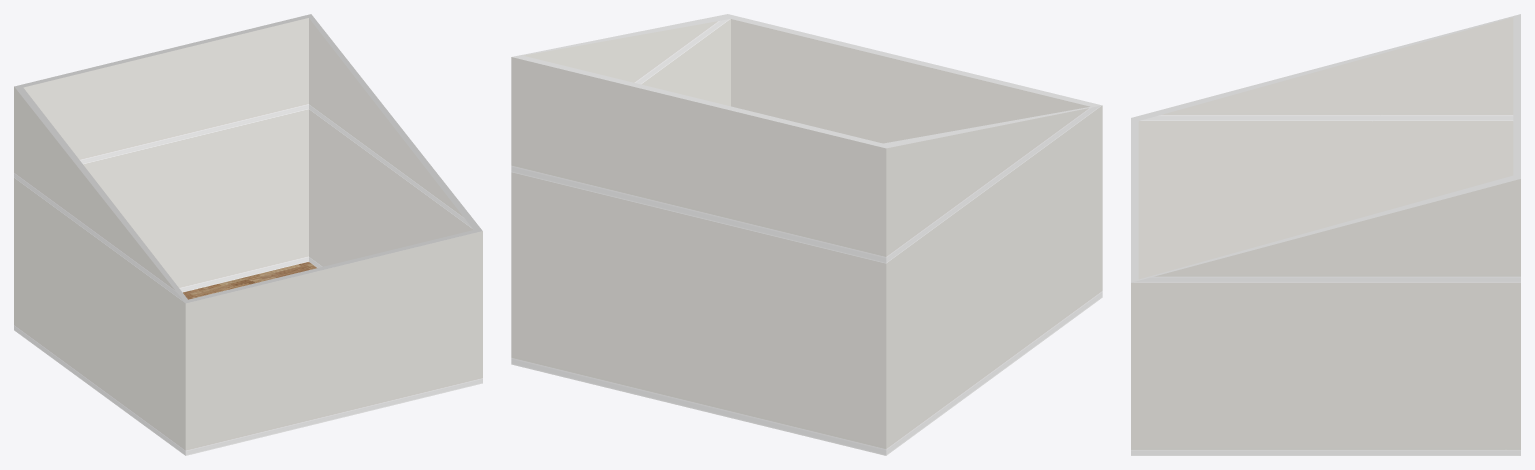
Rendered from design.gltf.
The picture shows the model from 3 angles, left to right: view 1: azimuth 30°, elevation 25°; view 2: azimuth 150°, elevation 25°; view 3: azimuth 270°, elevation 25°; orthographic projection. The views are drawn at different scales.
Parts seen in each view (by area): view 1: wall (×4), object 5, object 17, object 1, object 11, object 23; view 2: wall (×4), object 11, object 23, object 5, object 17; view 3: wall (×2), object 17, object 5, object 23, object 11.
Part boxes in pixels (x1,y1,x2,y2): wall (×4): [14, 18, 482, 455]; object 5: [14, 86, 187, 303]; object 17: [309, 14, 482, 230]; object 1: [183, 262, 316, 299]; object 11: [186, 230, 481, 303]; object 23: [14, 14, 310, 87]; wall (×4): [511, 19, 1102, 455]; object 11: [728, 14, 1101, 106]; object 23: [512, 55, 885, 148]; object 5: [883, 105, 1099, 148]; object 17: [512, 14, 730, 56]; wall (×2): [1131, 17, 1520, 455]; object 17: [1132, 175, 1520, 282]; object 5: [1131, 14, 1519, 120]; object 23: [1513, 14, 1520, 178]; object 11: [1131, 118, 1138, 282].
Size of the model in its own units: 510 by 400 by 510.
Materials: 26 (9 with a texture image).
